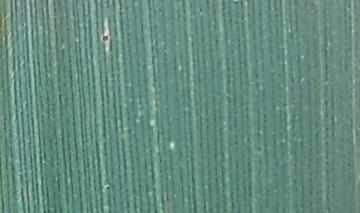tarspot: (100, 34, 109, 44)
